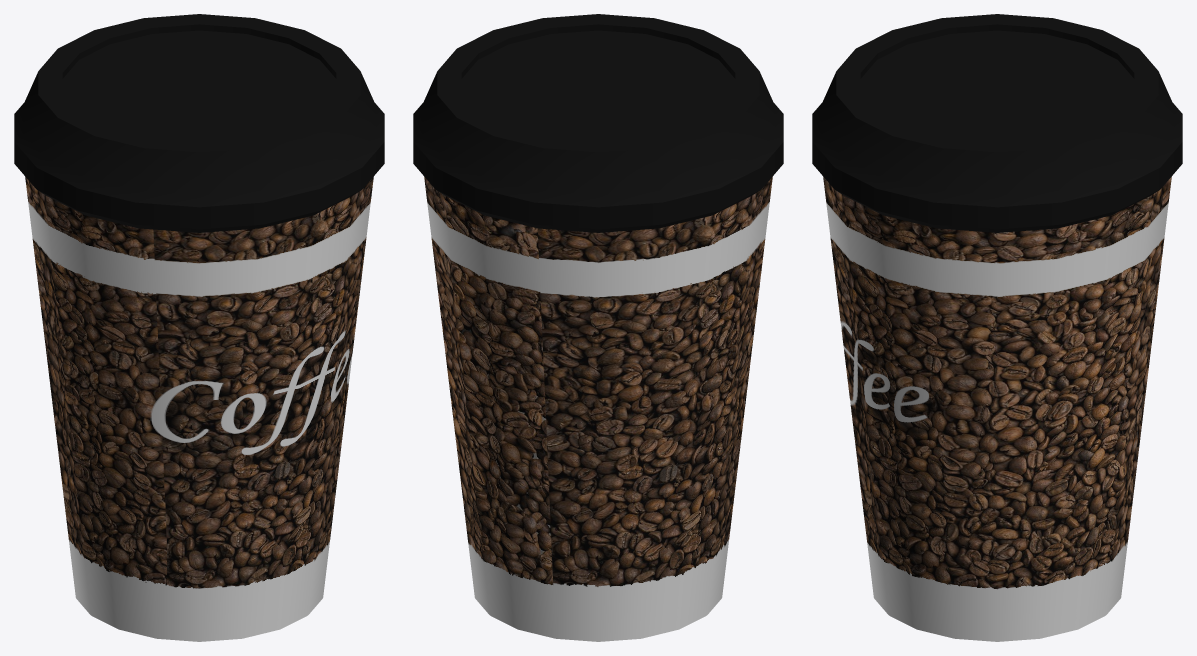
Rendered from Coffee 2.FBX.
3 renders of one model, left to right at view 1: azimuth 30°, elevation 25°; view 2: azimuth 150°, elevation 25°; view 3: azimuth 270°, elevation 25°, orthographic.
Parts seen in each view (by area): view 1: Coffee 2; view 2: Coffee 2; view 3: Coffee 2.
Part boxes in pixels (<box>): Coffee 2: <box>14,14,384,641</box>; Coffee 2: <box>413,14,783,641</box>; Coffee 2: <box>812,14,1182,641</box>.
Size of the model in its own units: 9.94 by 14.75 by 9.79.
1 material, 1 textured.
